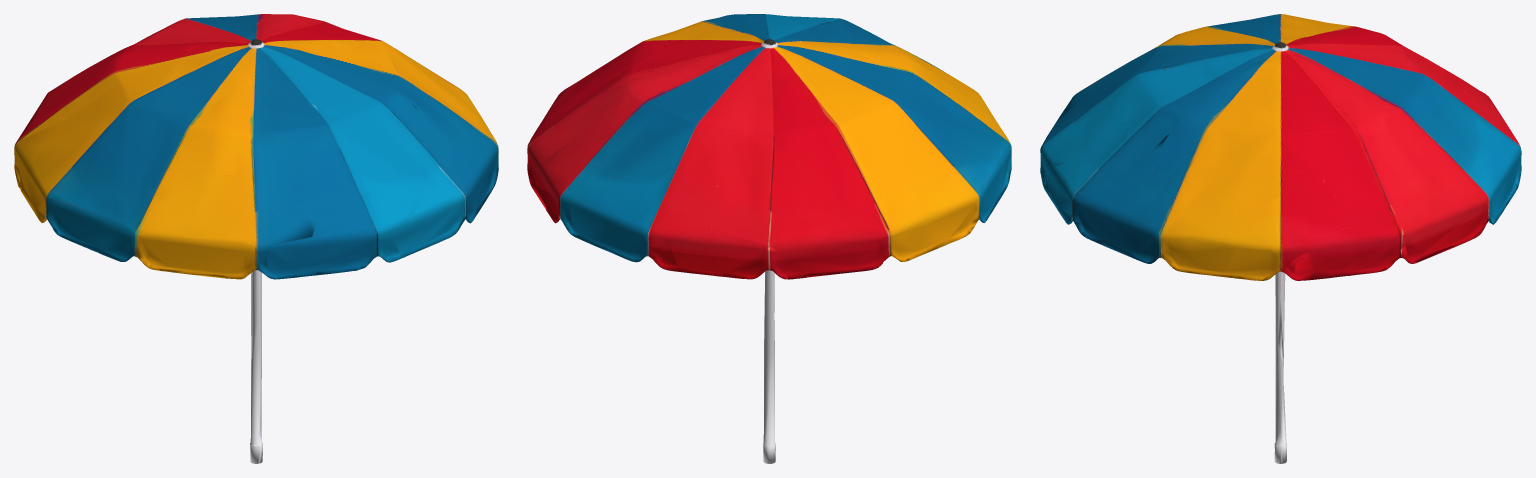
File: beach_parasol.glb
3 renders of one model, left to right at view 1: azimuth 30°, elevation 25°; view 2: azimuth 150°, elevation 25°; view 3: azimuth 270°, elevation 25°, orthographic.
Size of the model in its own units: 1.91 by 1.83 by 1.91.
1 material, 1 textured.
